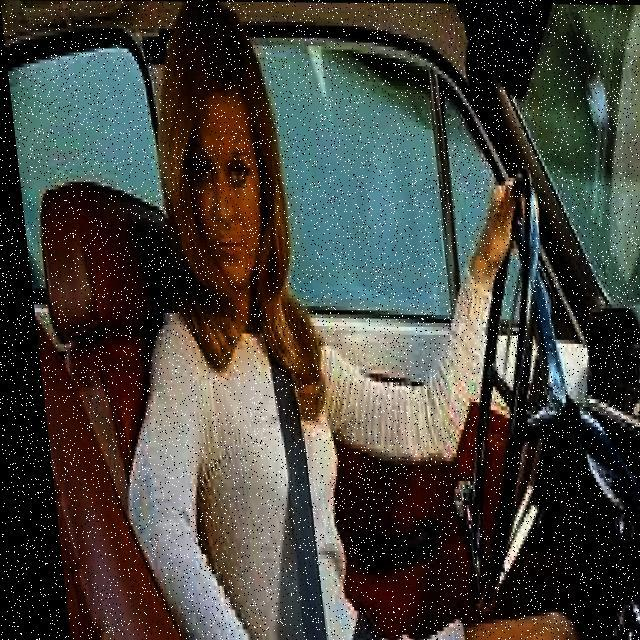seatbelt: (158, 284, 341, 640)
